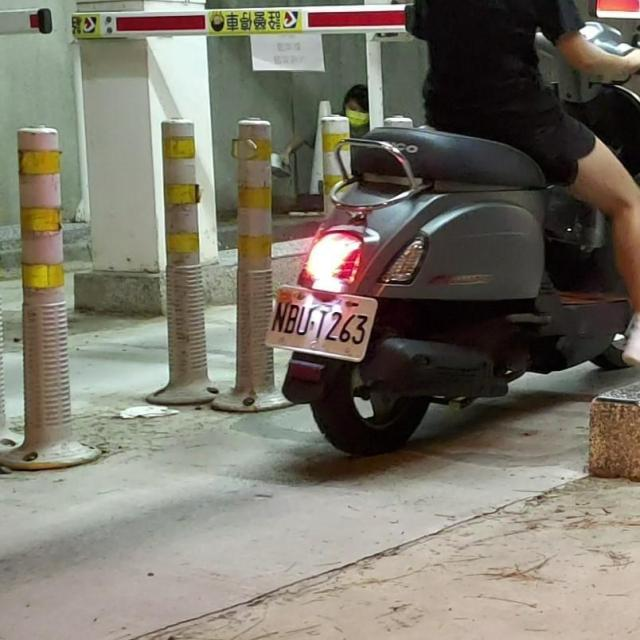W: (260, 281, 378, 361)
